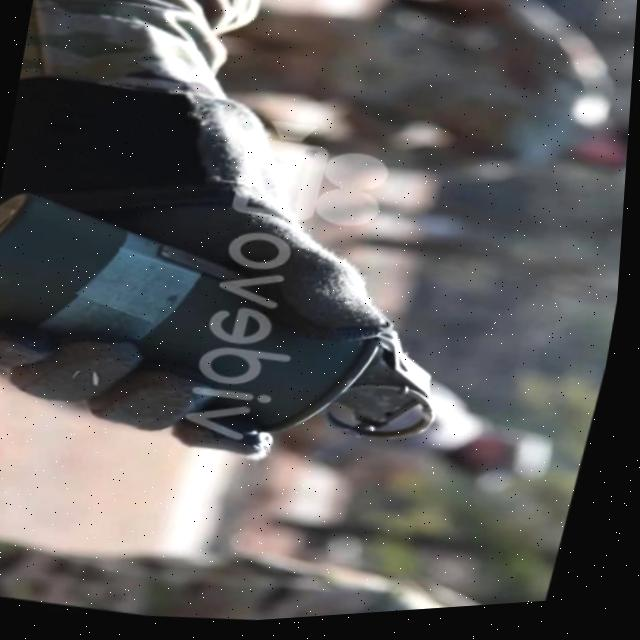grenade: (0, 158, 500, 492)
